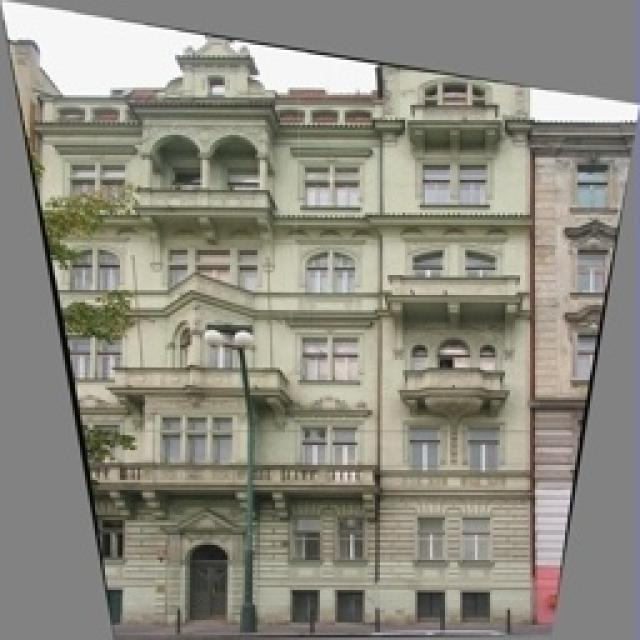building: (38, 35, 532, 640)
